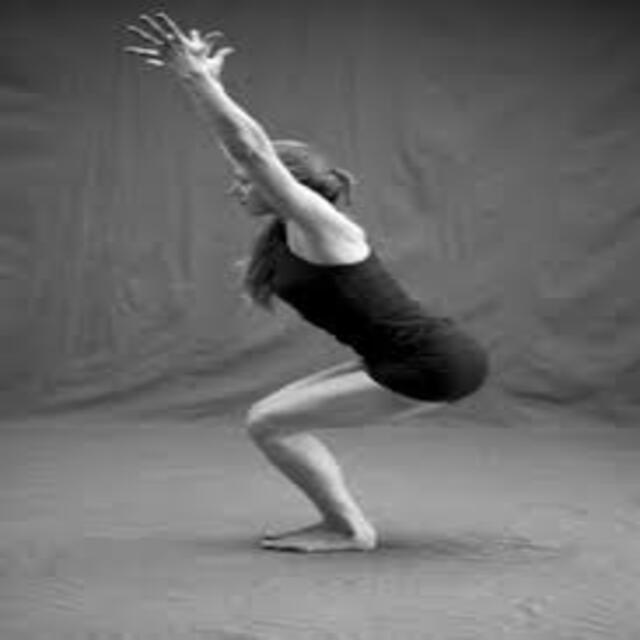Squat_Pose: (121, 7, 493, 553)
